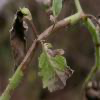Tomato leaf late blight: (36, 44, 74, 95)
